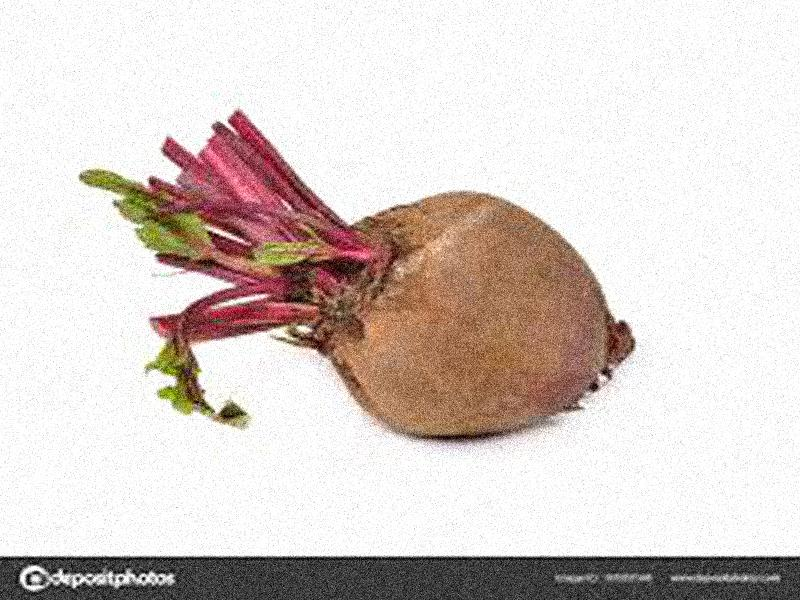Beet: (79, 110, 635, 441)
